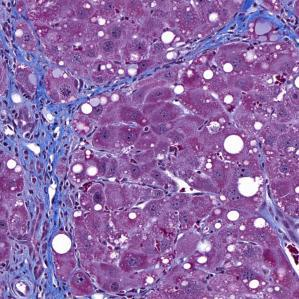fibrosis: (5, 48, 75, 274)
